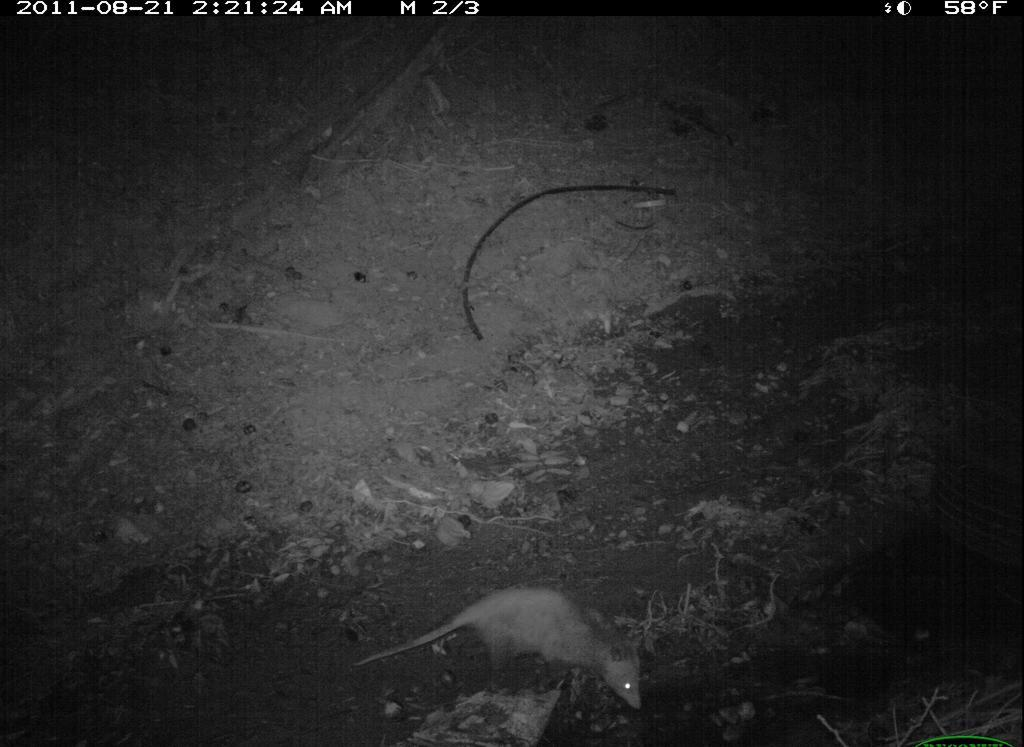opossum: (345, 564, 684, 733)
